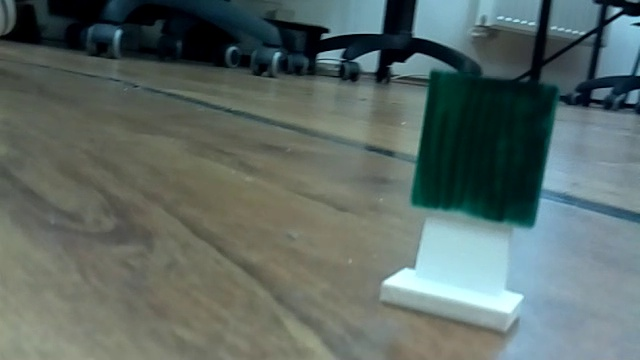rect: (350, 49, 572, 333)
